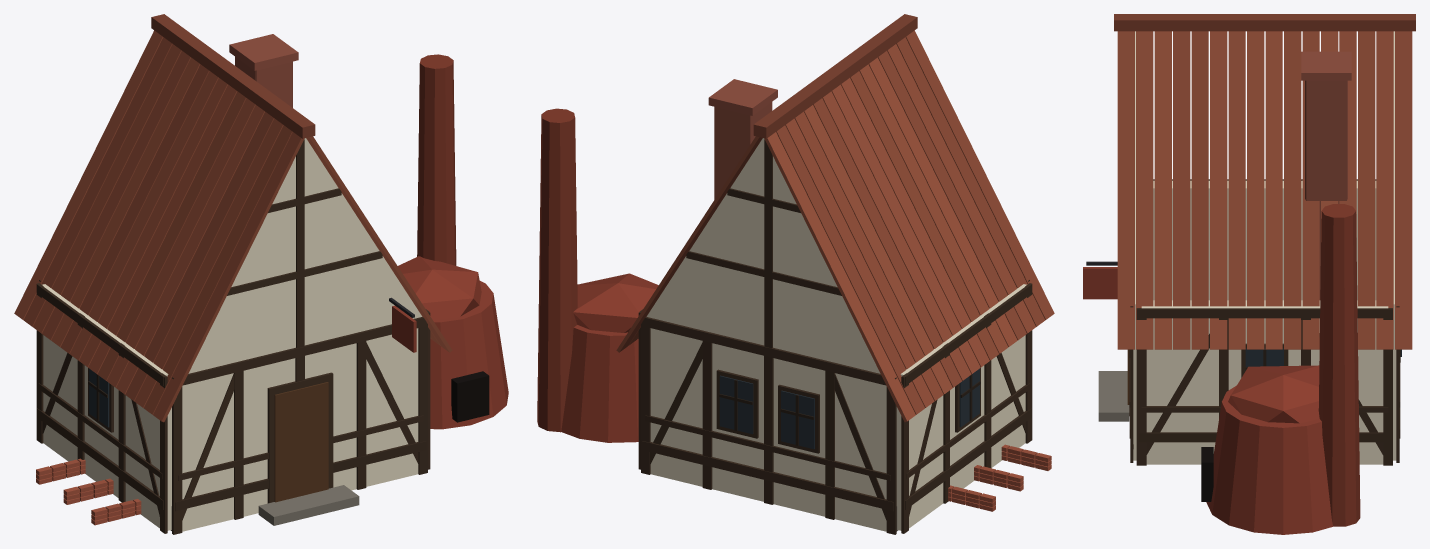
File: brickworks_2.glb
3 renders of one model, left to right at view 1: azimuth 30°, elevation 25°; view 2: azimuth 150°, elevation 25°; view 3: azimuth 270°, elevation 25°, orthographic.
Parts seen in each view (by area): view 1: brickworks2_tiles, brickworks2_plaster, brickworks2_wood, brickworks2_brick, brickworks2_stone, brickworks2_soot, brickworks2_glass; view 2: brickworks2_tiles, brickworks2_plaster, brickworks2_wood, brickworks2_brick, brickworks2_glass; view 3: brickworks2_tiles, brickworks2_brick, brickworks2_plaster, brickworks2_wood, brickworks2_stone, brickworks2_soot, brickworks2_glass.
Part boxes in pixels (x1,y1,x2,y2): brickworks2_tiles: [14, 14, 452, 422]; brickworks2_plaster: [42, 138, 422, 531]; brickworks2_wood: [36, 139, 430, 534]; brickworks2_brick: [36, 34, 508, 525]; brickworks2_stone: [170, 485, 359, 530]; brickworks2_soot: [451, 371, 489, 422]; brickworks2_glass: [89, 368, 109, 427]; brickworks2_tiles: [616, 14, 1054, 422]; brickworks2_plaster: [646, 138, 1026, 531]; brickworks2_wood: [638, 139, 1032, 534]; brickworks2_brick: [537, 79, 1051, 511]; brickworks2_glass: [719, 368, 979, 449]; brickworks2_tiles: [1114, 14, 1415, 349]; brickworks2_brick: [1206, 51, 1360, 534]; brickworks2_plaster: [1133, 31, 1396, 464]; brickworks2_wood: [1083, 179, 1400, 465]; brickworks2_stone: [1098, 371, 1129, 421]; brickworks2_soot: [1201, 447, 1213, 501]; brickworks2_glass: [1245, 348, 1401, 370].
Size of the model in its own units: 8.47 by 6.89 by 5.4.
